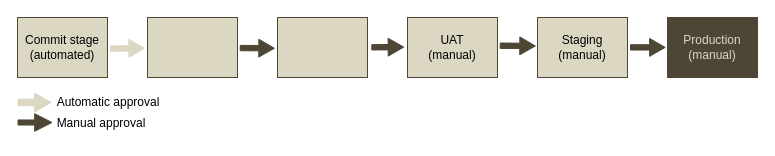
The diagram is 775 pixels wide and 156 high, and some of its shapes have lost their labels. Each missing label, with the centre of its shape:
Acceptance stage (automated): the point at 192,47
Exploratory testing (manual): the point at 322,47
